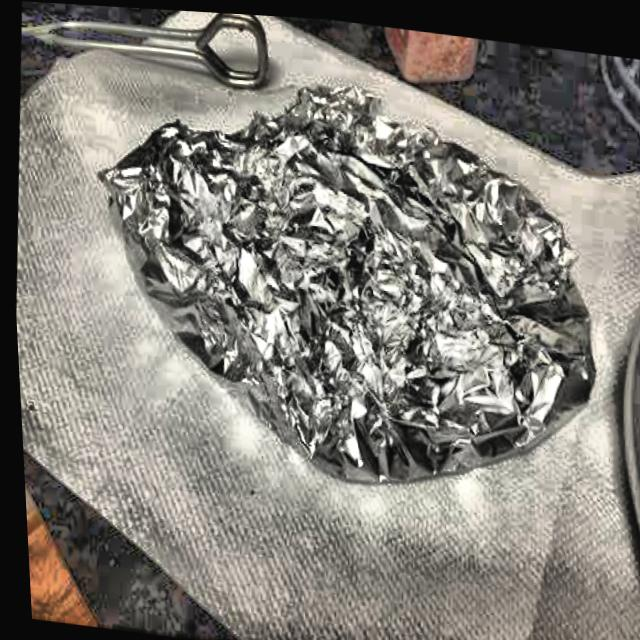Foil: (67, 40, 629, 522)
